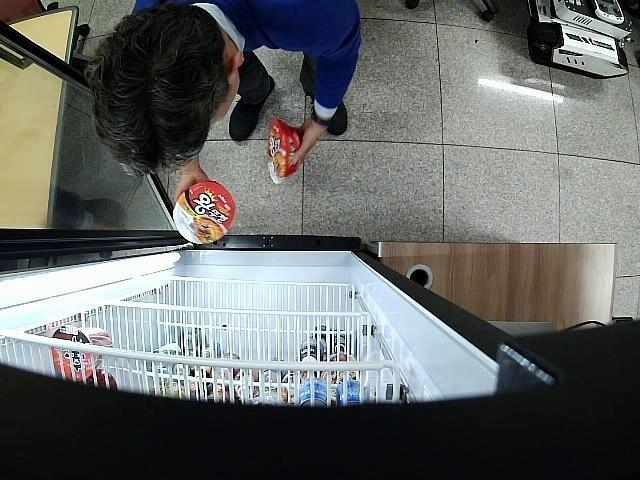10_wangTtukkeong: (172, 182, 235, 244), (269, 119, 303, 184)
